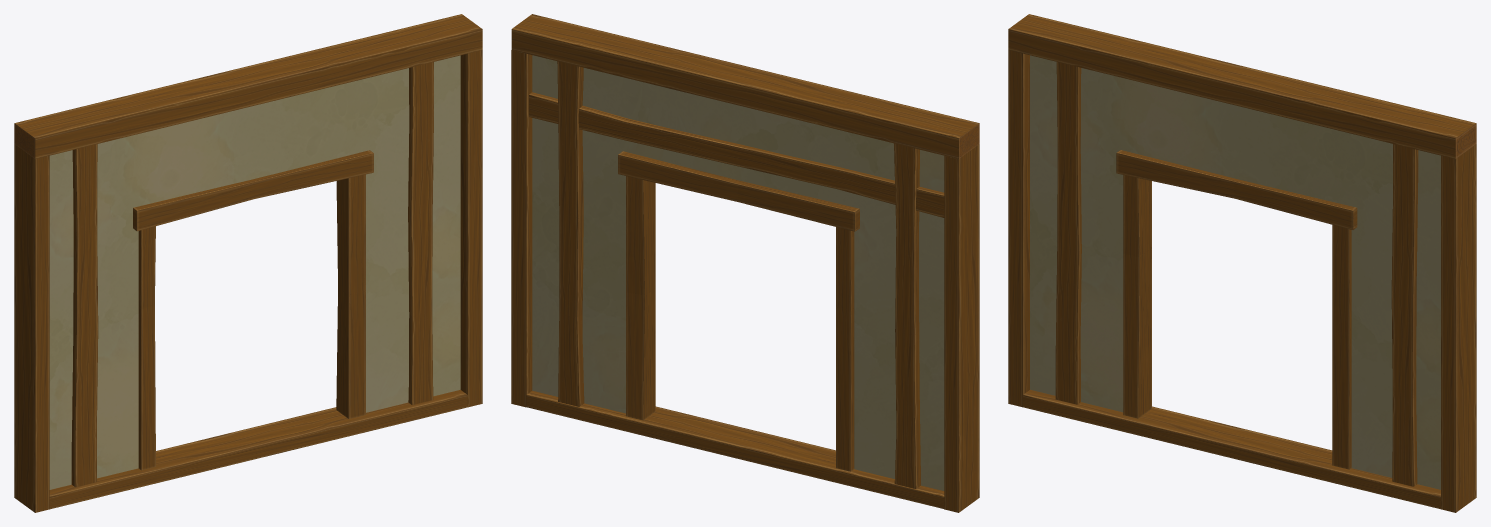
File: SM_House_Wall_5x4_Door_C_01.fbx
3 renders of one model, left to right at view 1: azimuth 30°, elevation 25°; view 2: azimuth 150°, elevation 25°; view 3: azimuth 330°, elevation 25°, orthographic.
Parts seen in each view (by area): view 1: SM_House_Wall_5x4_Door_C_01; view 2: SM_House_Wall_5x4_Door_C_01; view 3: SM_House_Wall_5x4_Door_C_01.
Part boxes in pixels (<box>): SM_House_Wall_5x4_Door_C_01: <box>14,14,482,512</box>; SM_House_Wall_5x4_Door_C_01: <box>511,14,979,512</box>; SM_House_Wall_5x4_Door_C_01: <box>1008,14,1476,512</box>.
Size of the model in its own units: 5 by 4 by 0.4024.
